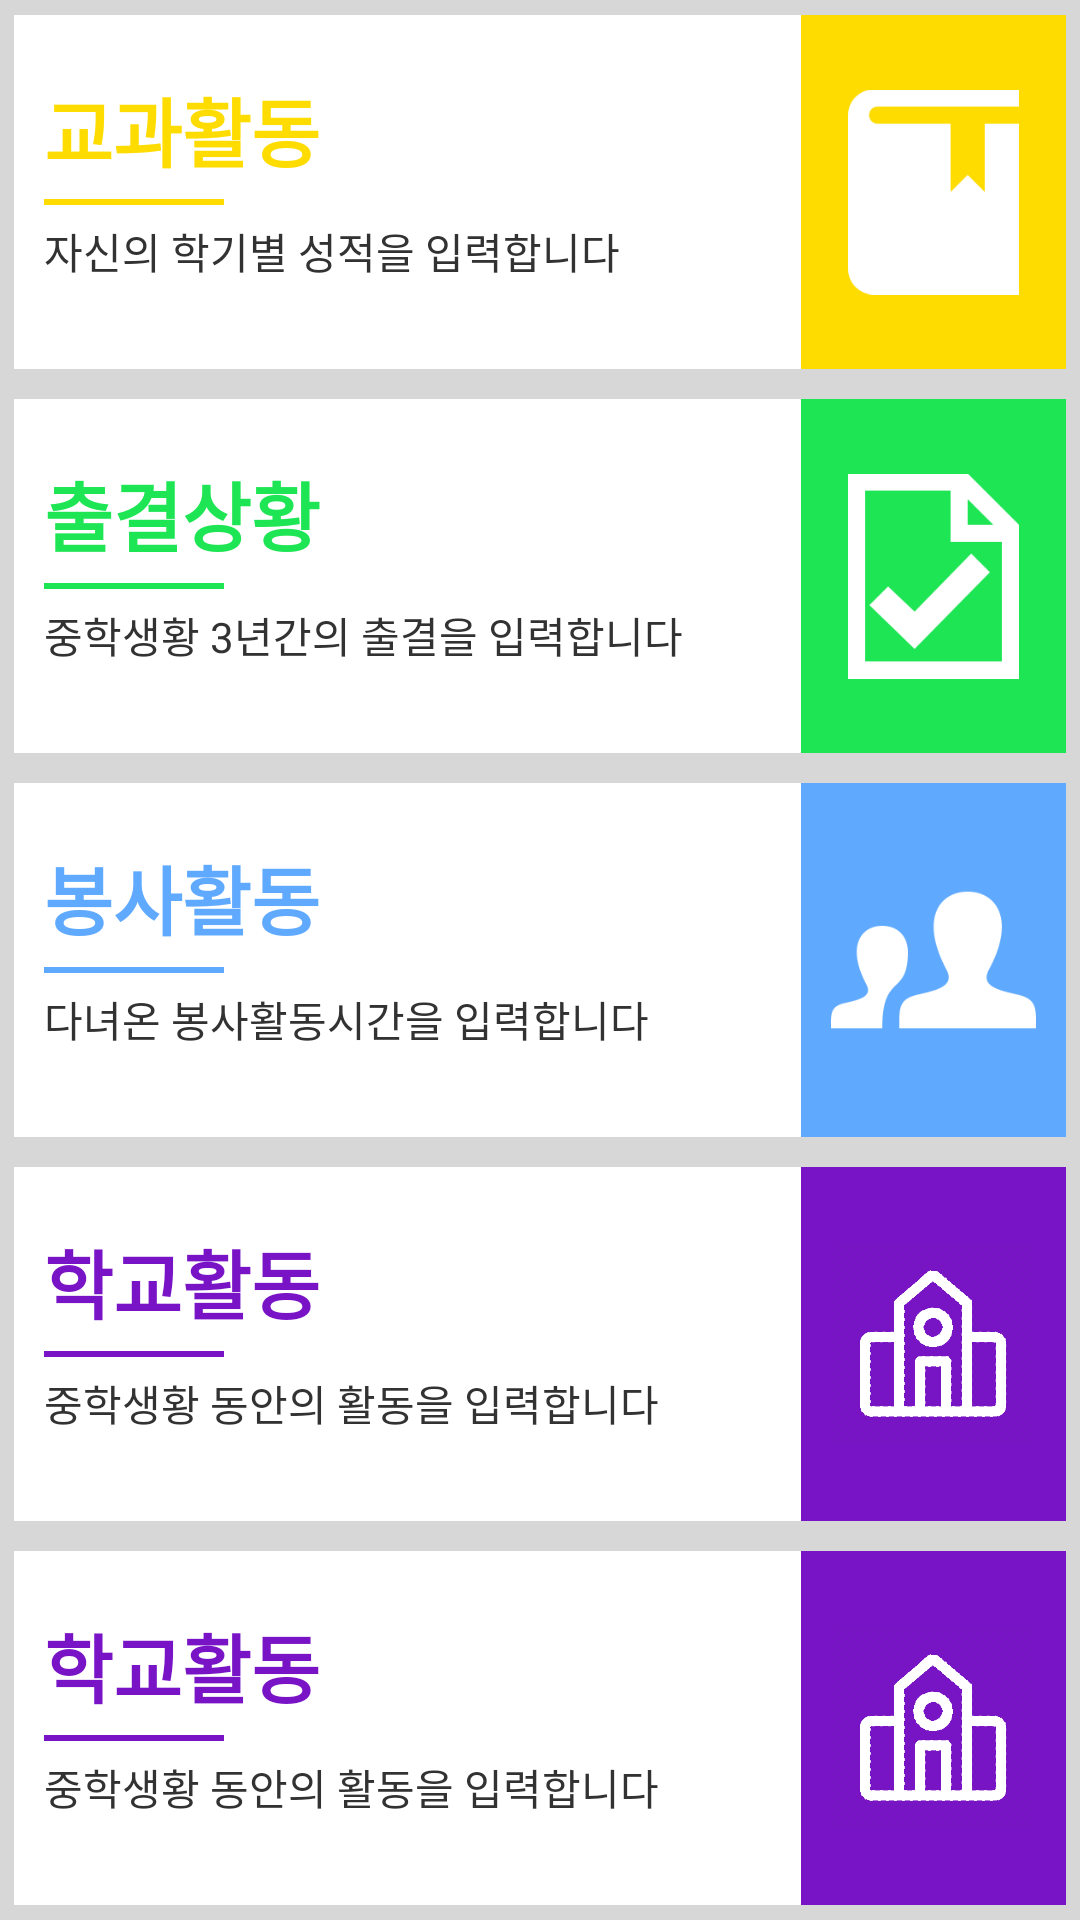

Locate icon controls on the screen. Image size 1080px×1920px, boxes as {"x1": x1, "y1": y1, "x2": x2, "y2": y2}.
boo: {"x1": 801, "y1": 15, "x2": 1066, "y2": 369}
check: {"x1": 801, "y1": 399, "x2": 1066, "y2": 753}
peo: {"x1": 801, "y1": 783, "x2": 1066, "y2": 1137}
school: {"x1": 801, "y1": 1167, "x2": 1066, "y2": 1521}, {"x1": 801, "y1": 1551, "x2": 1066, "y2": 1905}
